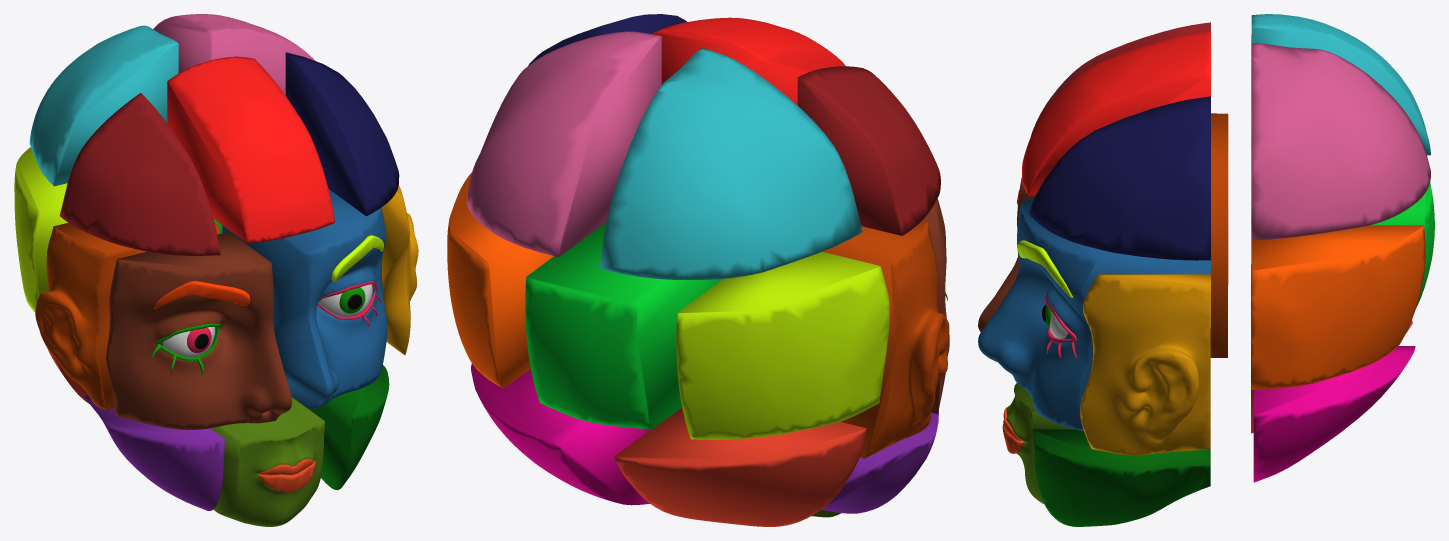
File: face_inka_exportunity.fbx
3 renders of one model, left to right at view 1: azimuth 30°, elevation 25°; view 2: azimuth 150°, elevation 25°; view 3: azimuth 270°, elevation 25°, orthographic. The views are drawn at different scales.
Parts seen in each view (by area): view 1: front4b, front2, front5, front1, back1, front4a, front3, front8, front7, back2, back3, front9 (+1 smaller); view 2: back1, back3, back2, back4, back6, front1, front4a, back5, back7, front2, front7, front4b (+1 smaller); view 3: back2, back5, front6, front3, front5, front2, front9, back7, back1, front4a, front8, front1 (+2 smaller).
Part boxes in pixels (box(x1,y1,x2,y2)): front4b: box(106, 232, 291, 429); front2: box(167, 56, 334, 243); front5: box(222, 189, 387, 409); front1: box(59, 93, 220, 255); back1: box(29, 25, 178, 186); front4a: box(35, 222, 219, 410); front3: box(285, 52, 399, 216); front8: box(211, 397, 324, 526); front7: box(84, 395, 224, 510); back2: box(153, 14, 315, 95); back3: box(14, 147, 67, 312); front9: box(291, 365, 389, 490); back1: box(599, 48, 862, 279); back3: box(676, 252, 889, 439); back2: box(466, 31, 661, 256); back4: box(525, 222, 723, 429); back6: box(614, 408, 866, 526); front1: box(797, 66, 940, 235); front4a: box(822, 220, 949, 458); back5: box(447, 172, 553, 388); back7: box(471, 363, 650, 505); front2: box(651, 17, 845, 105); front7: box(822, 410, 938, 513); front4b: box(923, 199, 949, 414); back2: box(1251, 43, 1430, 239); back5: box(1251, 225, 1425, 389); front6: box(1080, 274, 1210, 455); front3: box(1028, 96, 1210, 260); front5: box(978, 199, 1210, 431); front2: box(1022, 31, 1210, 195); front9: box(1032, 429, 1210, 526); back7: box(1253, 346, 1415, 482); back1: box(1251, 14, 1430, 155); front4a: box(1210, 113, 1228, 357); front8: box(1002, 383, 1073, 503); front1: box(1030, 22, 1210, 136).
Size of the model in its own units: 252 by 279 by 244.
